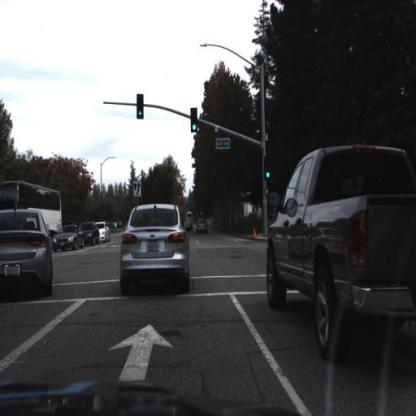car: (261, 148, 416, 359), (119, 202, 193, 294), (1, 205, 55, 306), (55, 227, 86, 254), (81, 221, 101, 247), (84, 223, 102, 246), (196, 215, 212, 236), (99, 222, 112, 245), (99, 222, 109, 242), (198, 220, 209, 235)
trafficLight: (136, 91, 146, 123)
trafficLight-Green: (190, 106, 200, 135), (264, 156, 274, 183)
truck: (1, 179, 64, 246)
